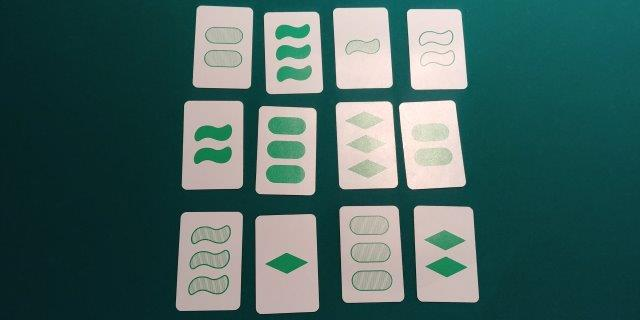1FD: (259, 217, 314, 309)
1HW: (338, 11, 385, 85)
2EW: (412, 12, 459, 84)
2FD: (418, 209, 471, 298)
2FP: (407, 103, 454, 183)
2FW: (187, 102, 238, 187)
2HP: (198, 8, 247, 85)
3FD: (341, 105, 390, 184)
3FP: (261, 109, 310, 193)
3FW: (266, 14, 318, 90)
3HP: (345, 207, 396, 299)
3HW: (183, 214, 234, 306)
